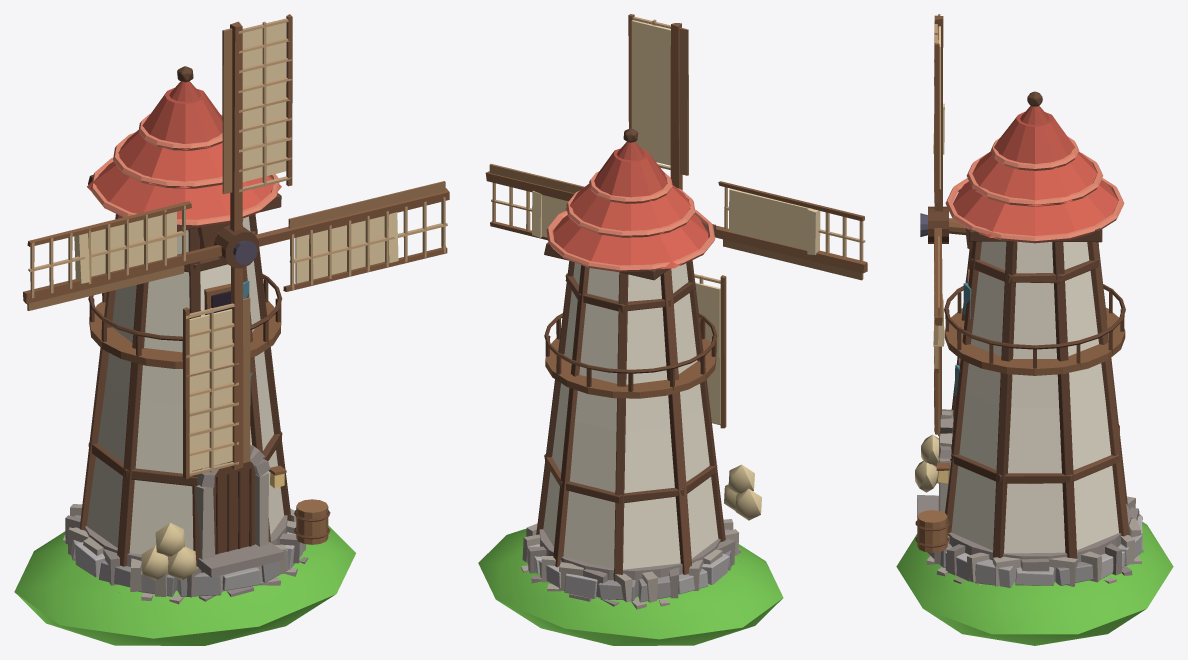
File: windmill.glb
The picture shows the model from 3 angles, left to right: view 1: azimuth 30°, elevation 25°; view 2: azimuth 150°, elevation 25°; view 3: azimuth 270°, elevation 25°; orthographic projection. The views are drawn at different scales.
Visible parts, largest first — view 1: wall, mound, sail_canvas, sail_stock, sail_slat, roof_2, sail_board, timber_1, stone, stone_dark, timber_0, roof_edge (+12 smaller); view 2: wall, mound, sail_canvas, roof_2, timber_1, sail_stock, timber_2, roof_edge, sail_board, timber, stone, stone_dark (+7 smaller); view 3: wall, mound, roof_2, timber_0, timber_1, timber_2, roof_edge, timber, stone_dark, stone, roof_1, sail_stock (+11 smaller).
Boxes of the visible parts, x1,y1,x2,y2 form: wall: (86,216,283,554); mound: (14,525,355,645); sail_canvas: (74,22,398,471); sail_stock: (23,14,449,478); sail_slat: (28,18,447,476); roof_2: (87,130,281,219); sail_board: (27,28,445,463); timber_1: (88,225,282,566); stone: (63,445,306,604); stone_dark: (65,445,308,601); timber_0: (88,66,291,572); roof_edge: (90,113,279,227); wall: (543,263,718,569); mound: (478,528,783,645); sail_canvas: (532,20,820,424); roof_2: (553,183,708,269); timber_1: (544,260,725,581); sail_stock: (485,14,867,428); timber_2: (545,265,691,574); roof_edge: (546,171,715,272); sail_board: (489,27,863,280); timber: (545,338,716,398); stone: (521,519,740,609); stone_dark: (527,529,740,606); wall: (951,241,1118,553); mound: (896,522,1173,645); roof_2: (953,151,1118,238); timber_0: (951,91,1102,561); timber_1: (945,241,1127,535); timber_2: (950,242,1129,536); roof_edge: (945,136,1124,243); timber: (936,218,1125,470); stone_dark: (917,409,1139,583); stone: (926,411,1143,586); roof_1: (990,112,1075,164); sail_stock: (934,15,943,434).
Bounding box in the file's own units: 15.24 × 21.43 × 9.2.
